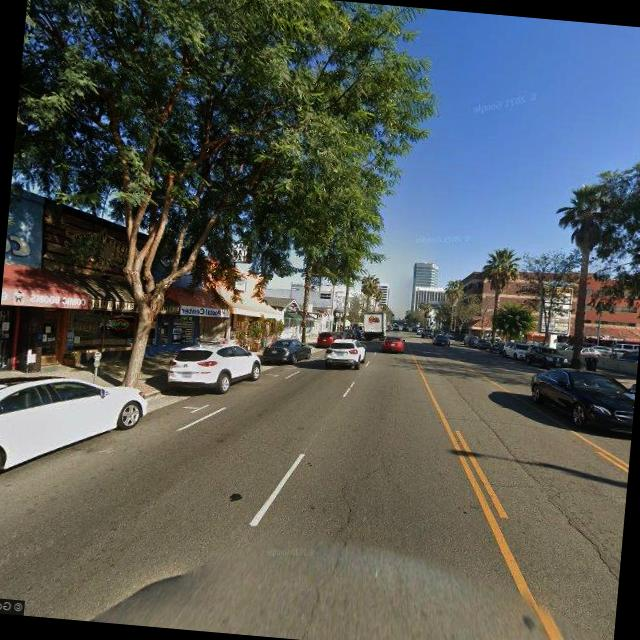pothole: (292, 465, 365, 640), (542, 495, 626, 606)
